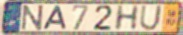2: (92, 4, 114, 32)
7: (72, 4, 90, 31)
A: (42, 5, 68, 31)
H: (113, 4, 141, 32)
N: (21, 4, 46, 32)
U: (138, 5, 164, 32)
